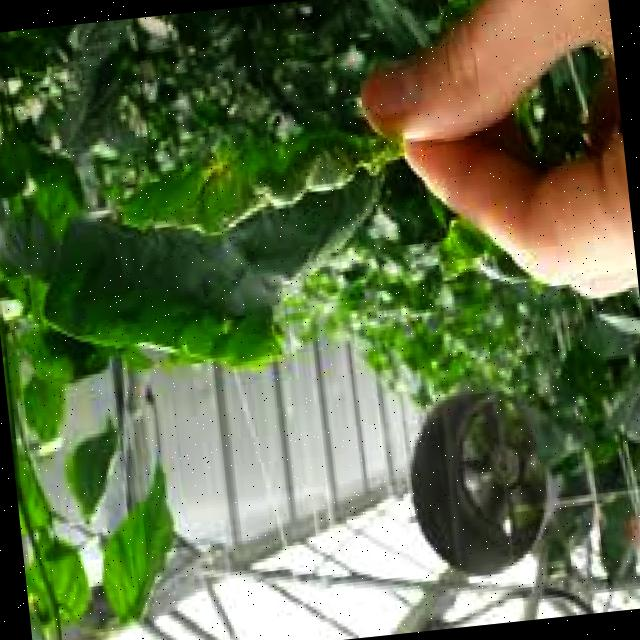healthy: (0, 31, 419, 455)
